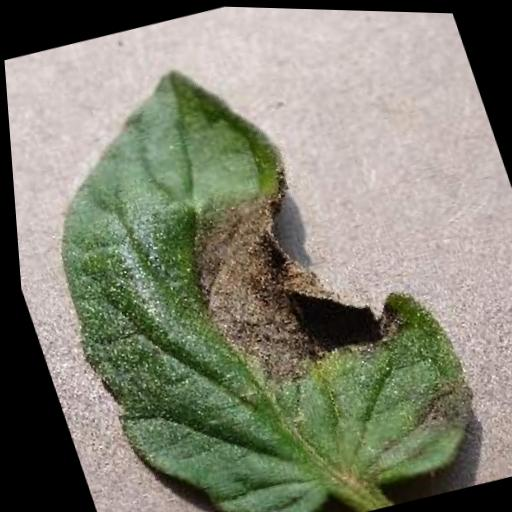Late Blight: (1, 10, 497, 512)
